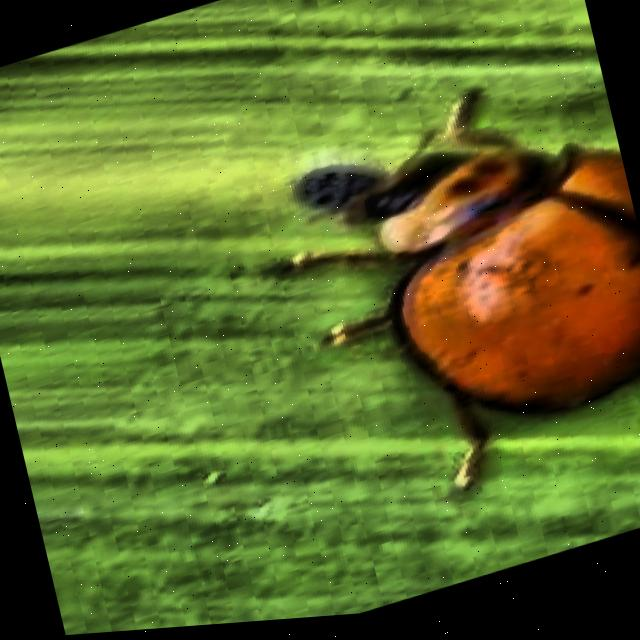Ladybug: (158, 20, 640, 580)
